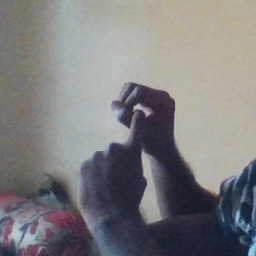Q: (76, 79, 179, 198)
